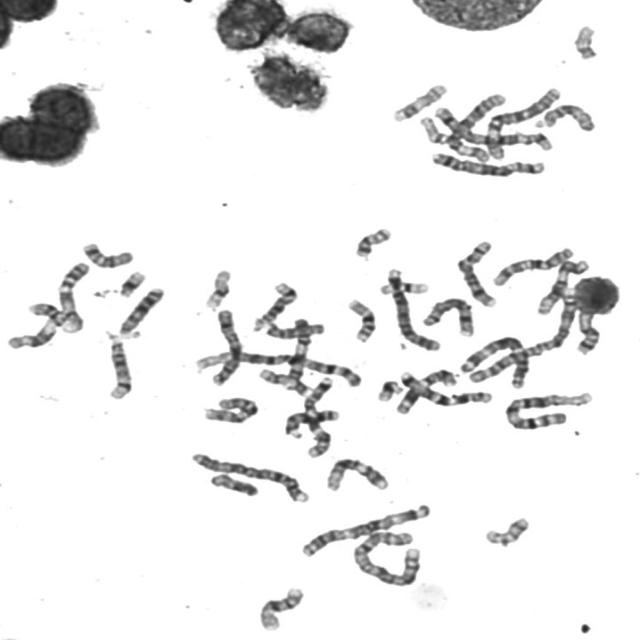A1: (192, 346, 364, 389), (500, 387, 596, 432)
A2: (460, 288, 583, 384), (348, 526, 424, 588)
A3: (297, 500, 434, 559), (458, 332, 532, 390)
B4: (186, 449, 312, 504), (383, 264, 442, 353)
B5: (428, 102, 556, 151), (427, 149, 547, 178)
C10: (488, 244, 576, 287), (199, 393, 259, 426)
C11: (2, 298, 67, 352), (392, 367, 459, 416)
C12: (533, 256, 591, 316), (322, 454, 390, 494)
C6: (482, 83, 564, 162), (433, 90, 508, 161)
C7: (396, 368, 494, 408), (300, 372, 337, 459)
C8: (453, 237, 500, 309), (418, 294, 476, 338)
C9: (52, 258, 92, 334), (575, 286, 604, 356)
D13: (114, 283, 167, 339), (281, 406, 341, 441)
D14: (248, 278, 300, 332), (100, 328, 134, 402)
D15: (538, 100, 597, 132), (260, 318, 326, 340)
E16: (255, 583, 307, 632), (343, 295, 379, 344)
E17: (389, 80, 450, 123), (255, 365, 313, 397)
E18: (78, 238, 136, 270), (206, 470, 260, 498)
F19: (200, 266, 233, 310), (376, 276, 432, 296)
F20: (481, 514, 532, 548), (351, 224, 394, 258)
G21: (114, 268, 147, 298), (374, 377, 404, 403)
G22: (570, 22, 600, 62), (416, 113, 449, 145)
X: (207, 305, 244, 387)
Y: (206, 470, 260, 498)
